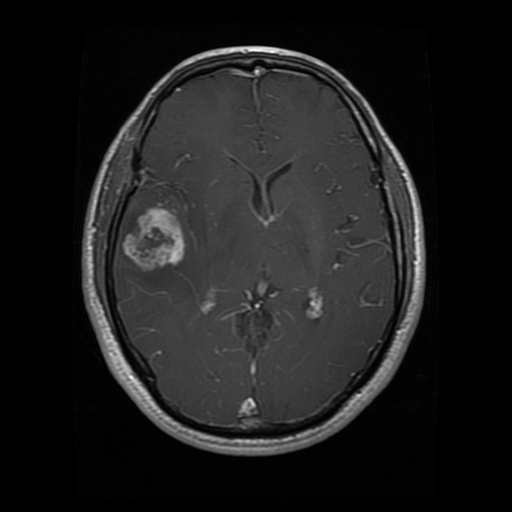glioma: (121, 206, 186, 273)
